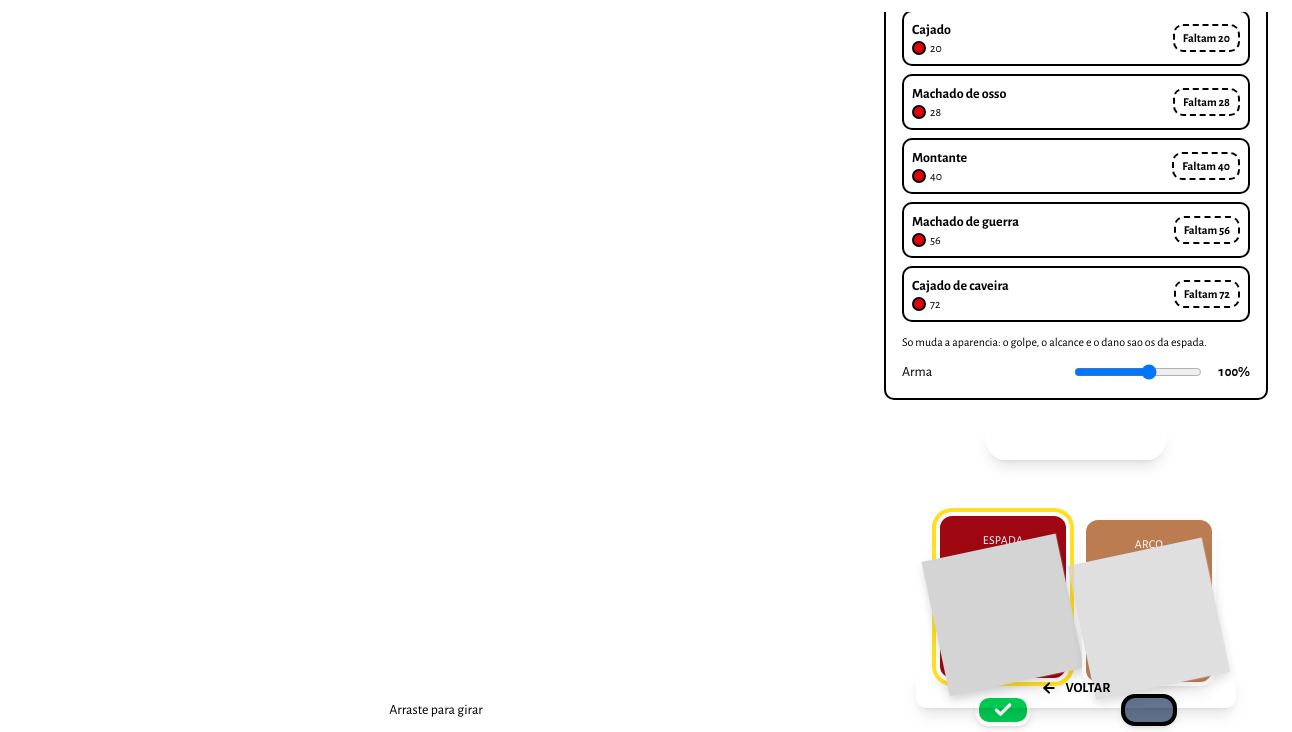
CharacterPage › tamanho da arma grava no store e mostra a porcentagem
(page scrolled)
Set the slider labelled "Arma" to "0.8" at (1127, 372), box left=1074, top=364, right=1202, bottom=380
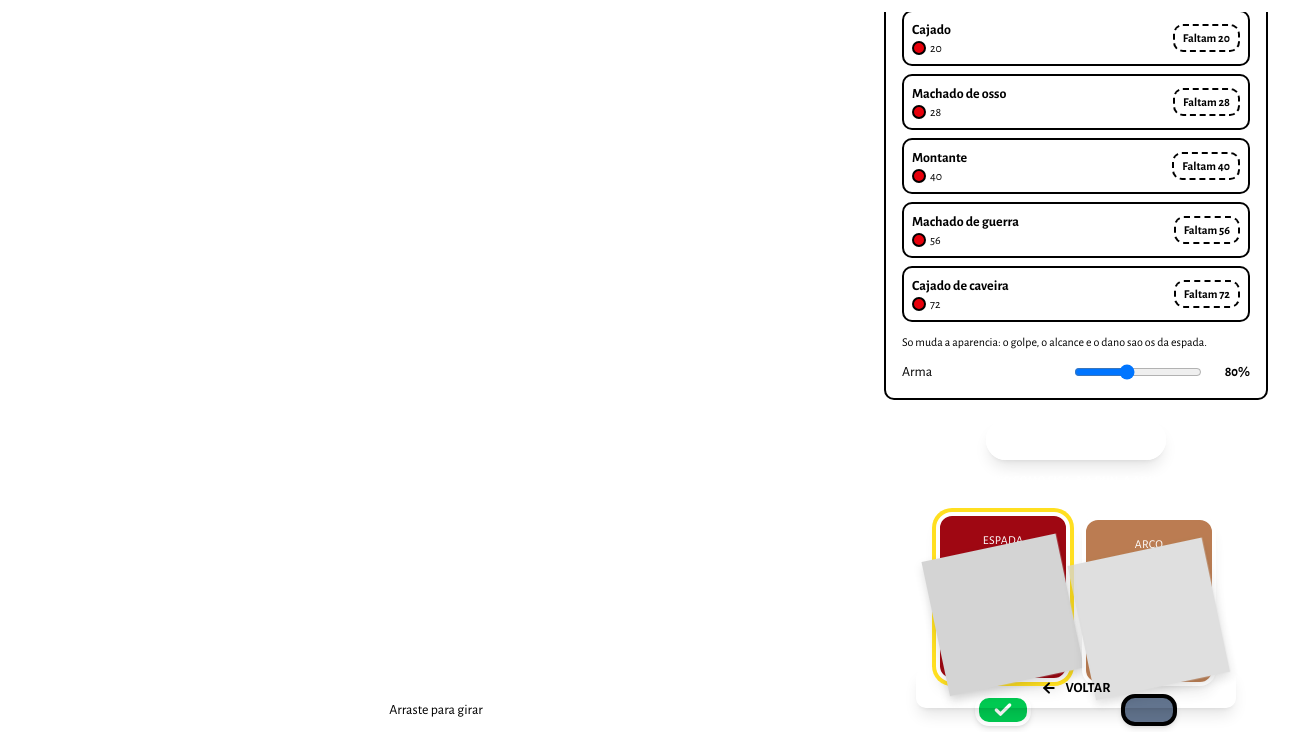
Expected: the text "80%" is shown, left=1225, top=365, right=1250, bottom=379
